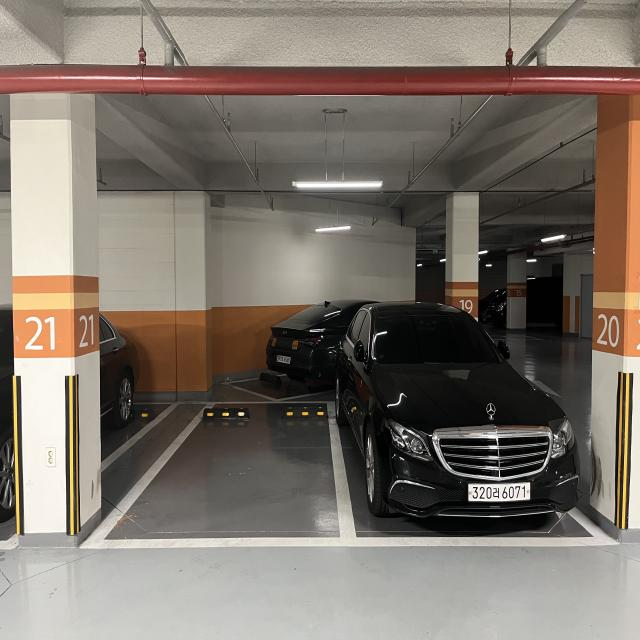empty: (68, 398, 361, 561)
occupied: (340, 290, 625, 560)
